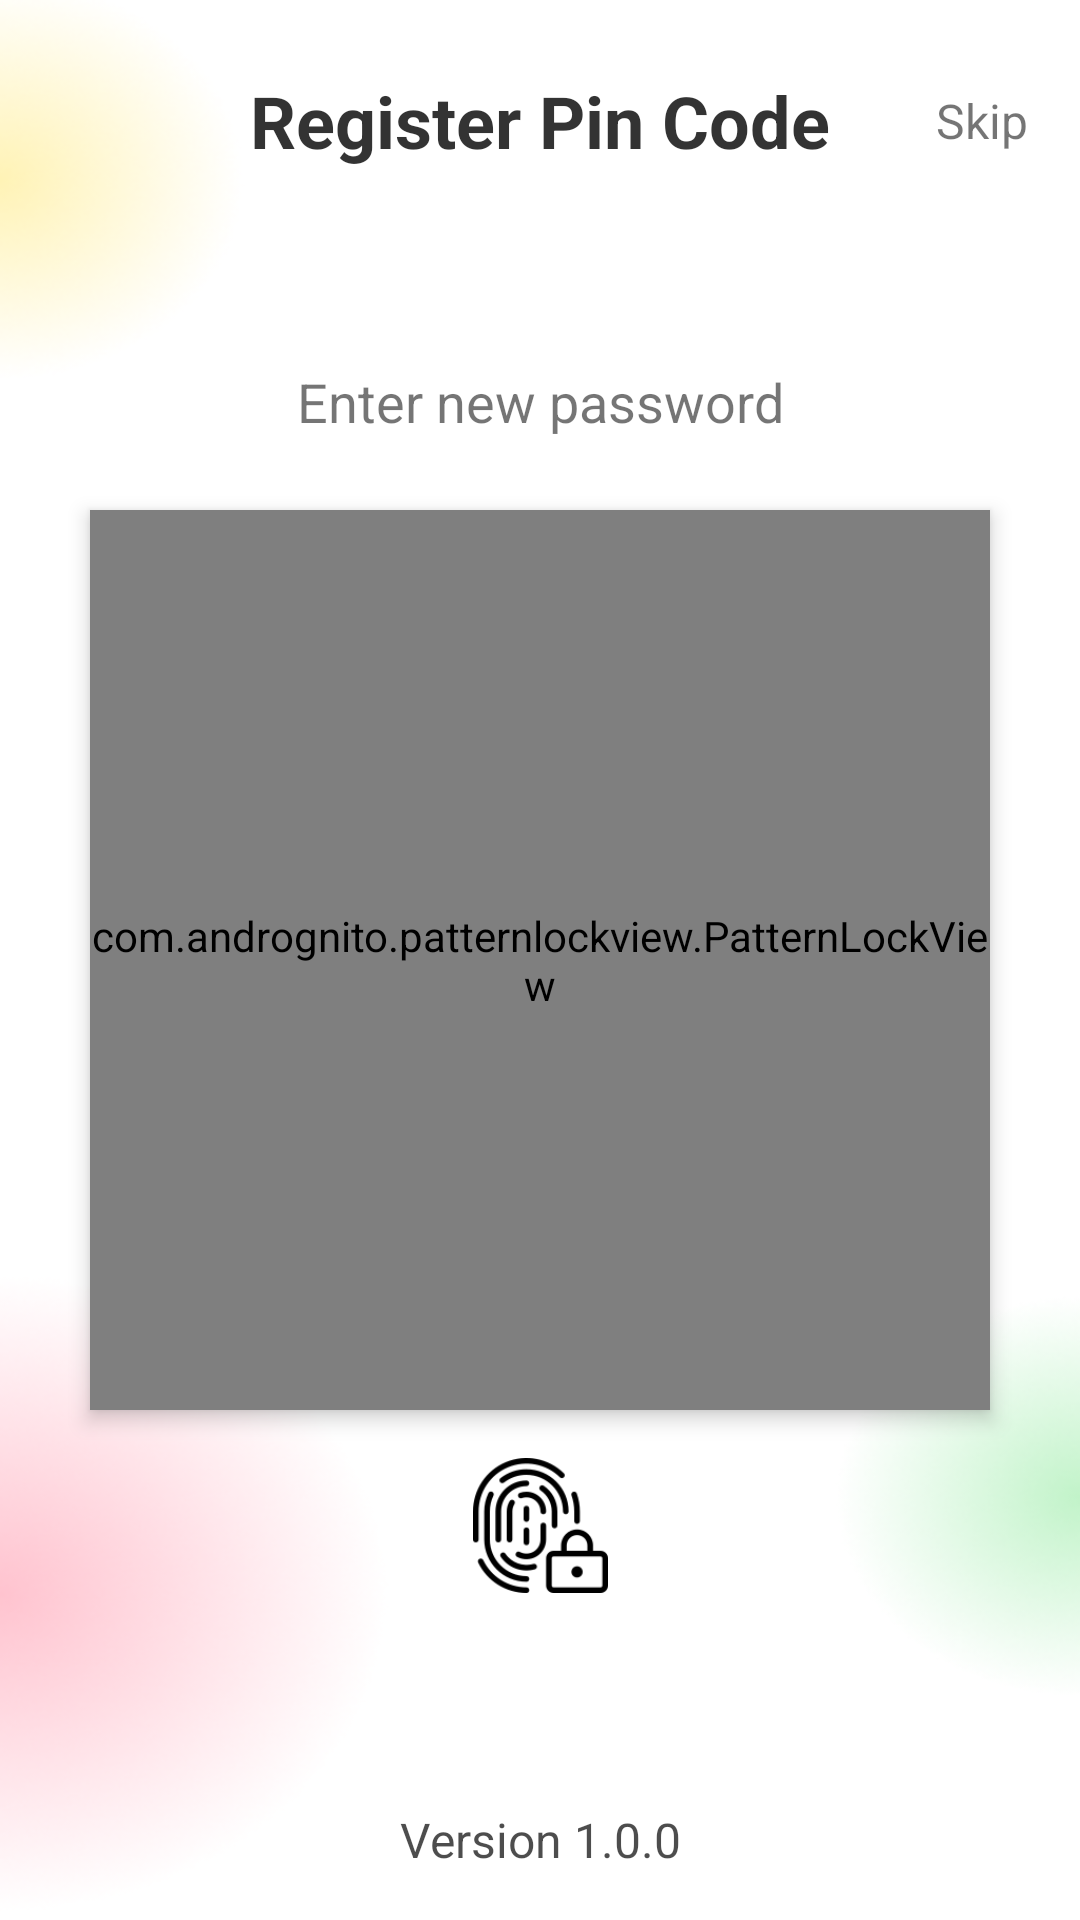

Where to tap for icons on this 1080×1920 app screen, as (x=x, y=y):
biometric: (x=540, y=1525)
